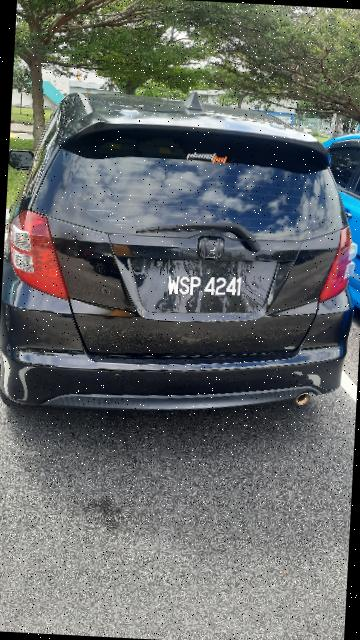License_Plate: (145, 254, 280, 318)
car: (1, 83, 360, 435)
